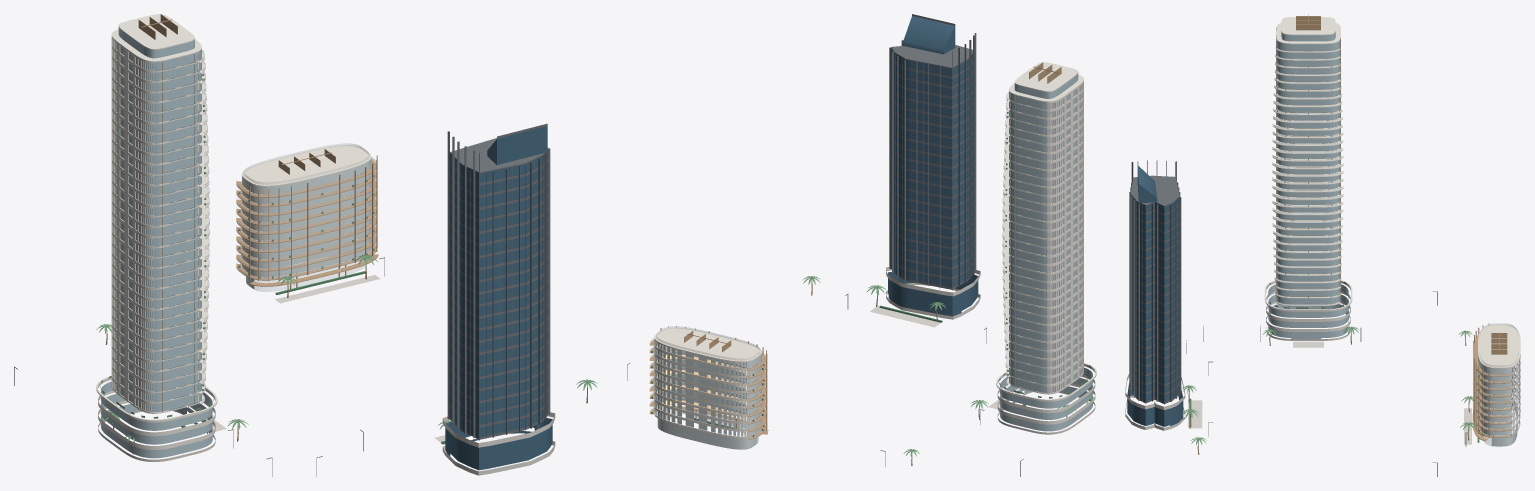
The model's file is downtown-block.glb.
3 views of the same model, side by side, from view 1: azimuth 30°, elevation 25°; view 2: azimuth 150°, elevation 25°; view 3: azimuth 270°, elevation 25° (orthographic). The views are drawn at different scales.
Visible parts, largest first — view 1: Caliza_Glass, Vanta_Glass, Caliza_Stone, Vanta_Metal, Cayo_Glass, Cayo_Fin, Cayo_Rail, Cayo_Stucco, Vanta_Pier, Caliza_Bronze, Forecourts, Cayo_Retail; view 2: Caliza_Glass, Vanta_Glass, Caliza_Stone, Vanta_Metal, Cayo_Glass, Cayo_Stucco, Cayo_Fin, Cayo_Rail, Vanta_Pier, Caliza_Bronze, Cayo_Room, Forecourts; view 3: Caliza_Glass, Caliza_Stone, Vanta_Glass, Vanta_Metal, Caliza_Rail, Cayo_Glass, Cayo_Fin, Caliza_Bronze, Cayo_Stucco, Forecourts, Cayo_Rail, Vanta_Pier.
Part boxes in pixels (<box>): Caliza_Glass: <box>101,27,212,458</box>; Vanta_Glass: <box>445,126,552,470</box>; Caliza_Stone: <box>96,14,217,449</box>; Vanta_Metal: <box>447,123,550,440</box>; Cayo_Glass: <box>242,159,371,289</box>; Cayo_Fin: <box>236,149,378,289</box>; Cayo_Rail: <box>236,143,375,279</box>; Cayo_Stucco: <box>241,145,371,261</box>; Vanta_Pier: <box>442,412,555,475</box>; Caliza_Bronze: <box>138,14,209,411</box>; Forecourts: <box>205,275,445,444</box>; Cayo_Retail: <box>254,259,365,291</box>; Caliza_Glass: <box>1000,73,1092,431</box>; Vanta_Glass: <box>888,16,978,316</box>; Caliza_Stone: <box>996,62,1096,424</box>; Vanta_Metal: <box>889,14,976,290</box>; Cayo_Glass: <box>654,340,761,449</box>; Cayo_Stucco: <box>654,327,762,438</box>; Cayo_Fin: <box>649,326,767,439</box>; Cayo_Rail: <box>650,326,765,438</box>; Vanta_Pier: <box>886,267,980,319</box>; Caliza_Bronze: <box>1002,62,1061,392</box>; Cayo_Room: <box>656,344,759,436</box>; Forecourts: <box>682,305,1006,431</box>; Caliza_Glass: <box>1268,31,1348,339</box>; Caliza_Stone: <box>1264,17,1352,331</box>; Vanta_Glass: <box>1127,165,1183,426</box>; Vanta_Metal: <box>1129,160,1181,404</box>; Caliza_Rail: <box>1272,47,1343,305</box>; Cayo_Glass: <box>1478,354,1520,446</box>; Cayo_Fin: <box>1472,323,1512,441</box>; Caliza_Bronze: <box>1273,14,1342,303</box>; Cayo_Stucco: <box>1478,324,1520,434</box>; Forecourts: <box>1188,341,1471,444</box>; Cayo_Rail: <box>1473,323,1518,437</box>; Vanta_Pier: <box>1125,374,1185,430</box>.
Size of the model in its own units: 171 by 142 by 166.
